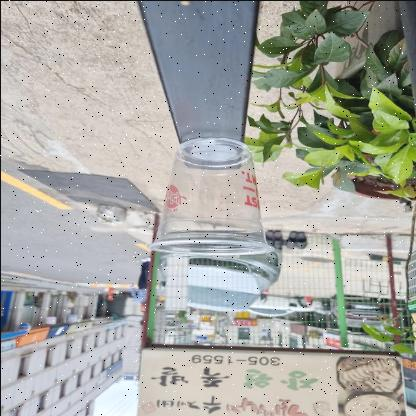Others: (141, 134, 278, 258)
